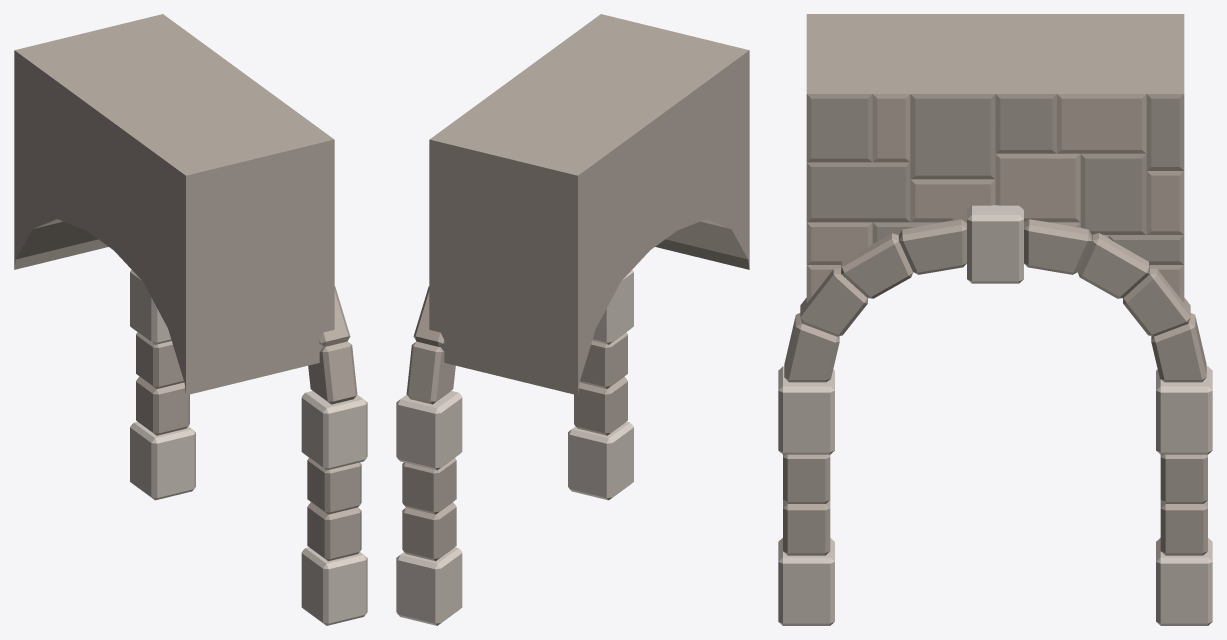
File: Stone_Arch_Outer.glb
3 renders of one model, left to right at view 1: azimuth 30°, elevation 25°; view 2: azimuth 150°, elevation 25°; view 3: azimuth 270°, elevation 25°, orthographic. The views are drawn at different scales.
Visible parts, largest first — view 1: Stone_Arch_Outer; view 2: Stone_Arch_Outer; view 3: Stone_Arch_Outer.
Boxes of the visible parts, x1,y1,x2,y2 form: Stone_Arch_Outer: (14,14,367,625); Stone_Arch_Outer: (396,14,749,625); Stone_Arch_Outer: (778,14,1212,625).
Size of the model in its own units: 0.5748 by 1.52 by 1.15.
